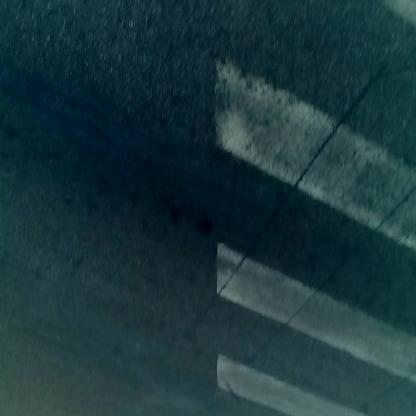crosswalk: (212, 1, 416, 399)
